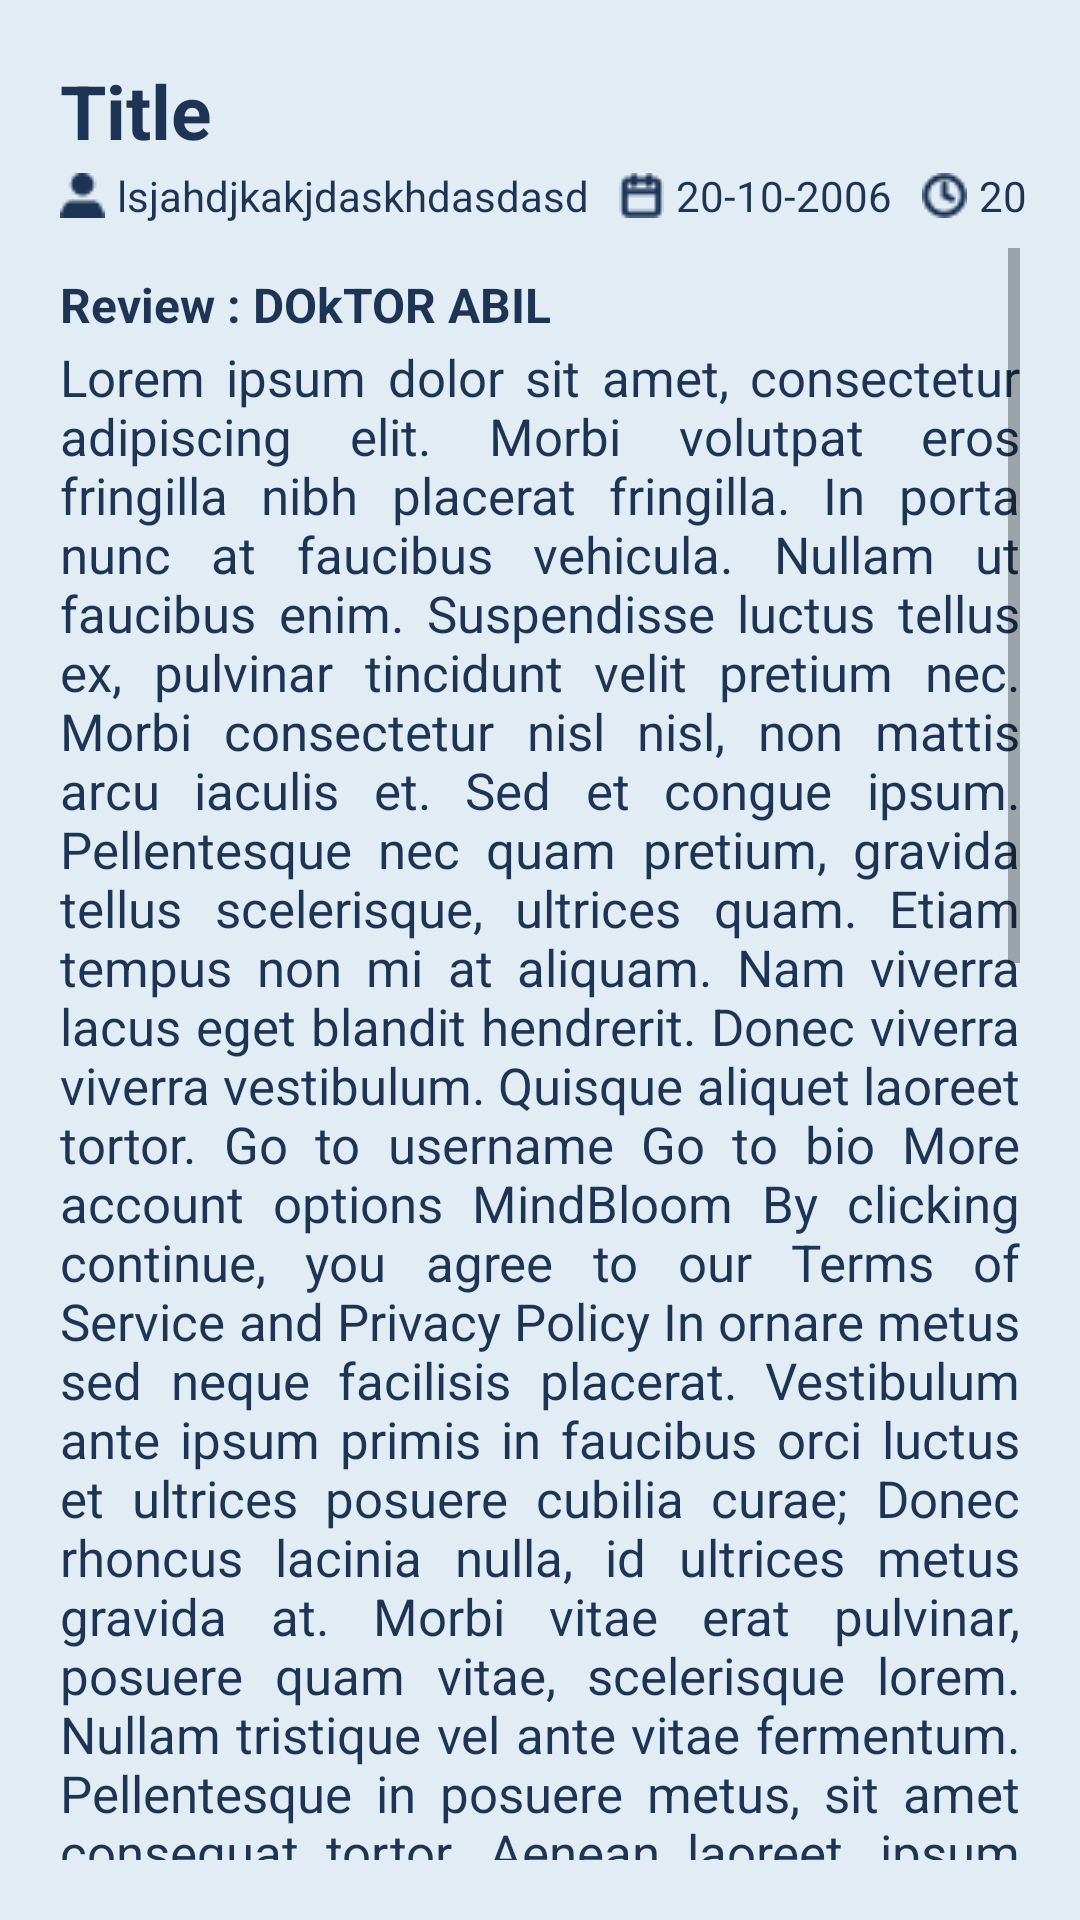

Icon bounding boxes for this 1080px x 1920px phone screenshot, format bbox(x1, y1, x2, y2):
author: bbox(60, 173, 105, 218)
calender: bbox(620, 173, 663, 218)
